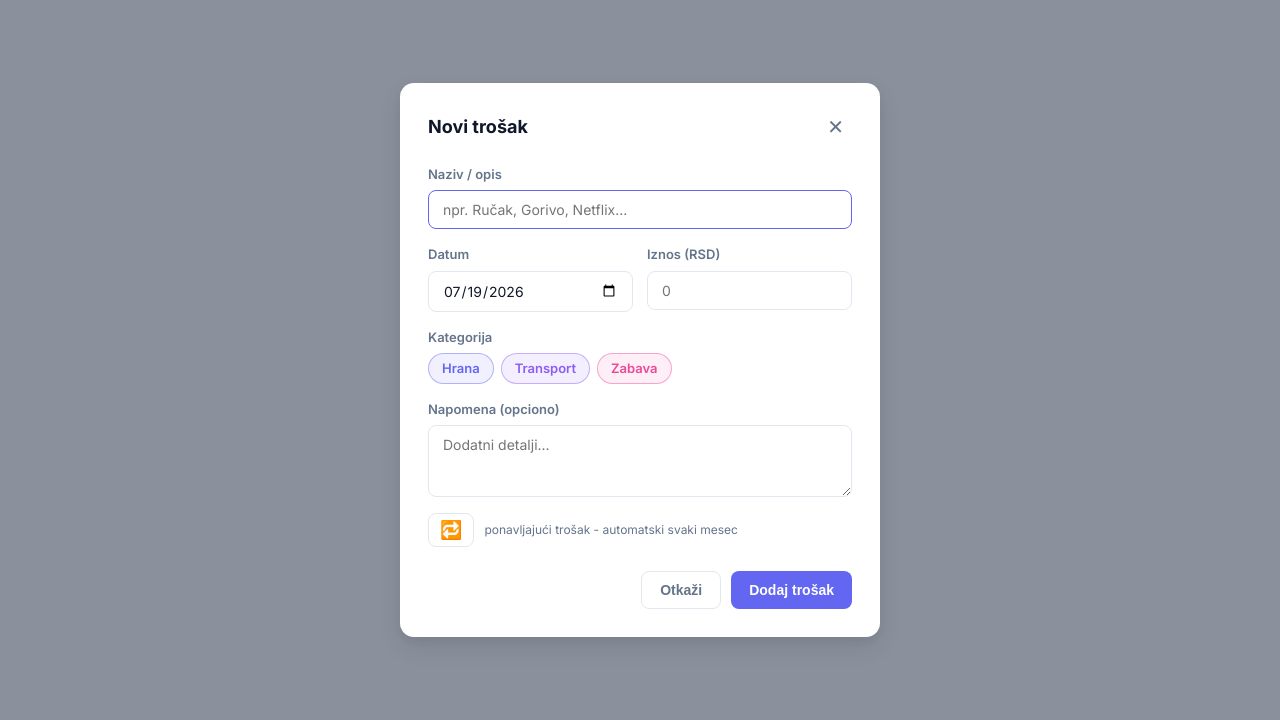
Test: ExpenseModal — add mode › shows validation errors on submit with category but empty title and amount
Click the button "Hrana".
click(461, 368)  # box [428, 353, 494, 384]
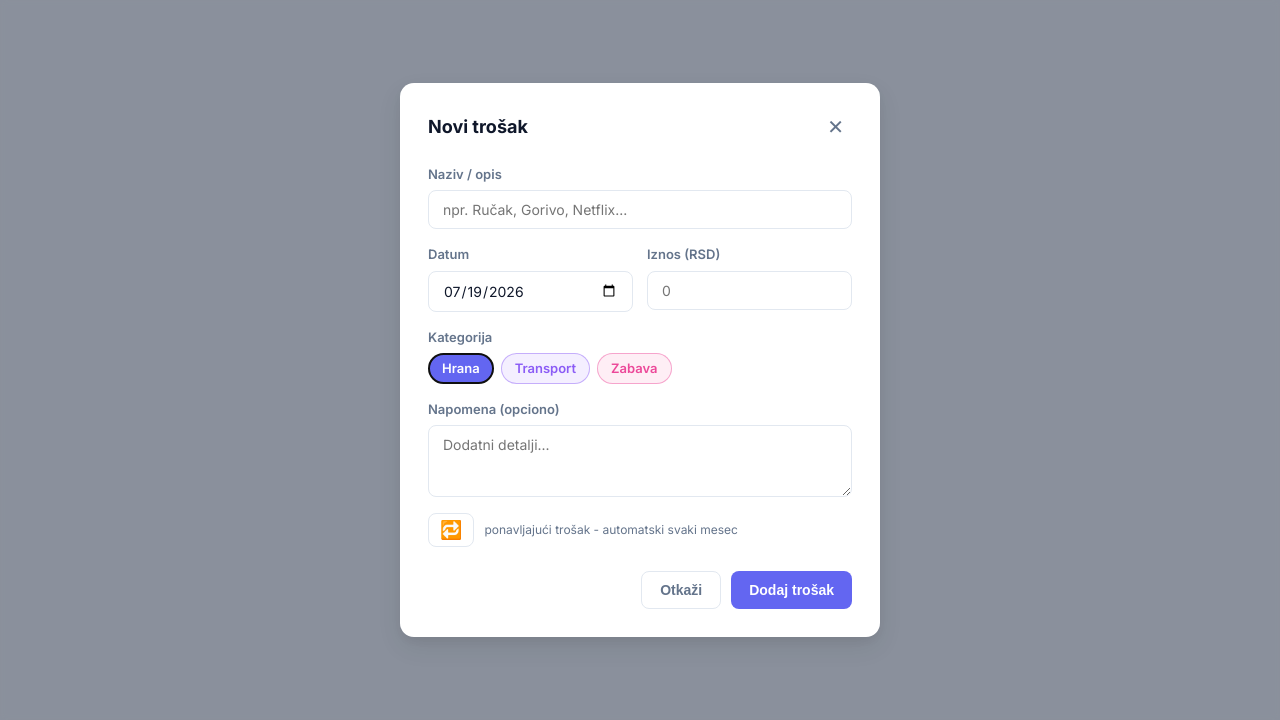
Click the button "Dodaj trošak".
click(792, 590)  # box [731, 571, 852, 609]
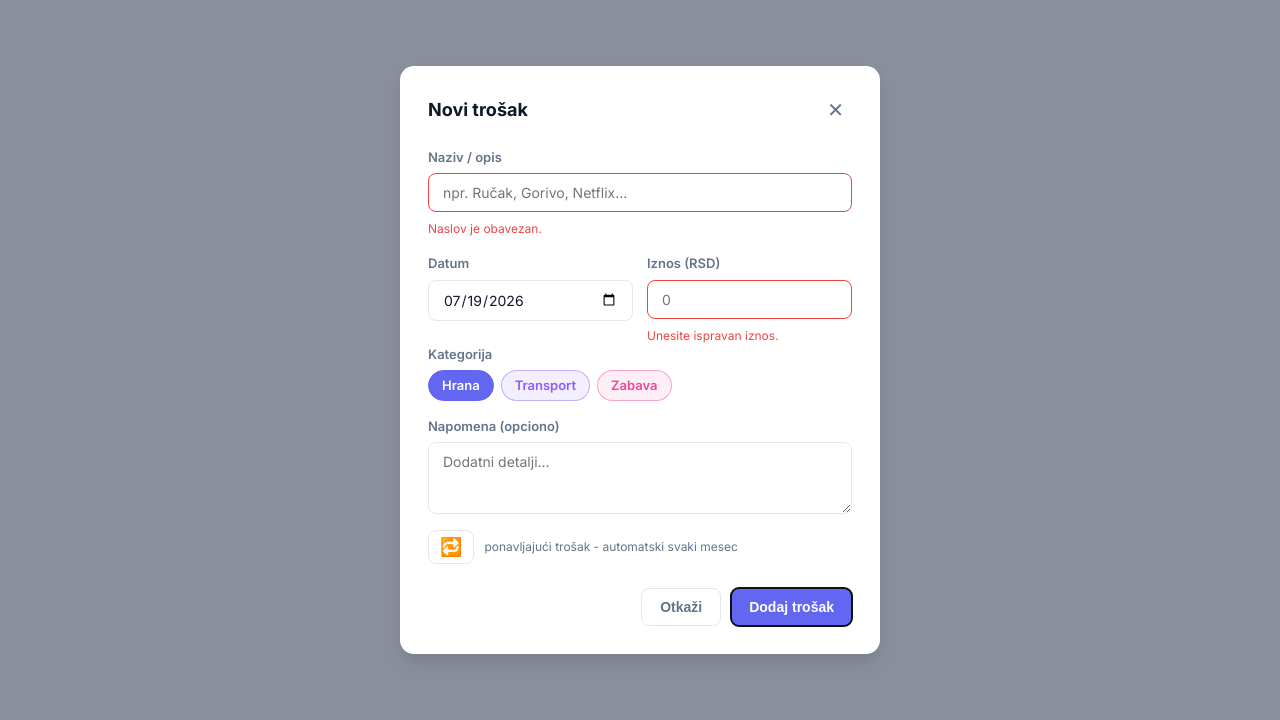
Expected: the text "Naslov je obavezan." is shown, [428, 221, 542, 236]
Expected: the text "Unesite ispravan iznos." is shown, [647, 328, 779, 343]
